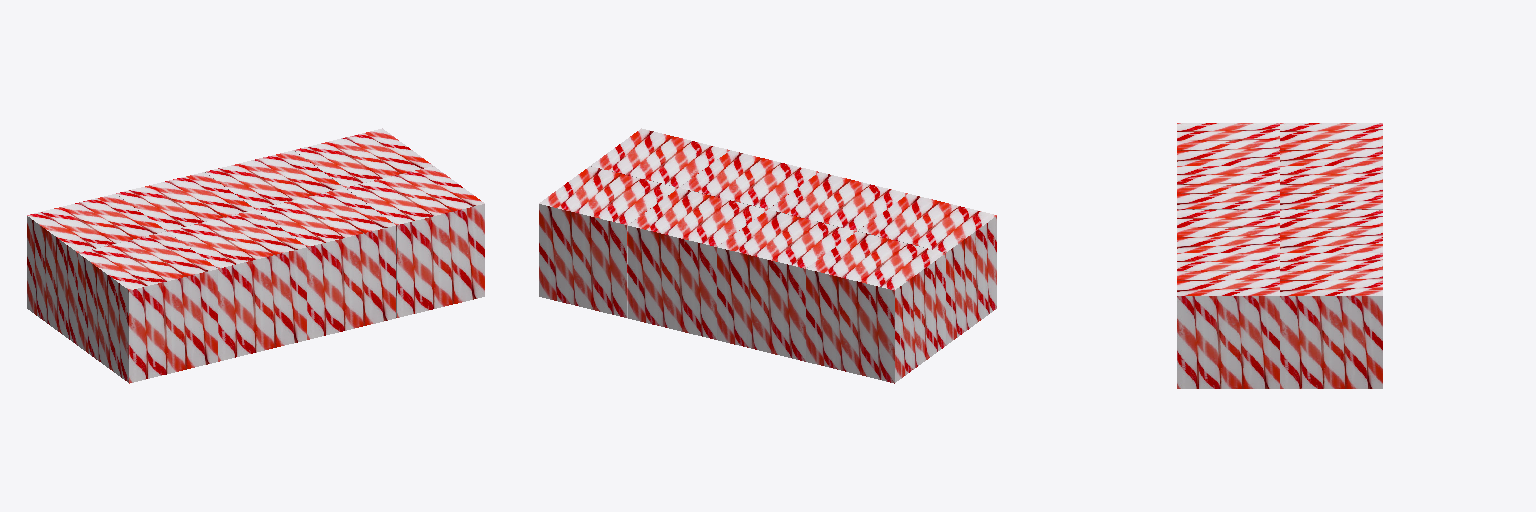
The picture shows the model from 3 angles: view 1: azimuth 30°, elevation 25°; view 2: azimuth 150°, elevation 25°; view 3: azimuth 270°, elevation 25°; orthographic projection.
Visible parts, largest first — view 1: Cube, Cube.002, Cube.003, Cube.001, Cube.007, Cube.004, Cube.005, Cube.006; view 2: Cube.007, Cube.005, Cube.004, Cube.006, Cube, Cube.003, Cube.002, Cube.001; view 3: Cube.004, Cube.003, Cube.006, Cube.001, Cube.007, Cube.005, Cube.002, Cube.
Boxes of the visible parts, x1,y1,x2,y2 form: Cube: [78, 231, 217, 383]; Cube.002: [256, 188, 395, 339]; Cube.003: [346, 166, 484, 317]; Cube.001: [167, 210, 306, 361]; Cube.007: [27, 194, 165, 345]; Cube.004: [294, 128, 432, 187]; Cube.005: [205, 150, 344, 208]; Cube.006: [116, 172, 255, 230]; Cube.007: [806, 231, 945, 383]; Cube.005: [628, 188, 767, 339]; Cube.004: [539, 166, 677, 317]; Cube.006: [717, 210, 856, 361]; Cube: [858, 194, 996, 345]; Cube.003: [591, 128, 729, 187]; Cube.002: [679, 150, 818, 208]; Cube.001: [768, 172, 907, 230]; Cube.004: [1280, 253, 1382, 388]; Cube.003: [1177, 253, 1279, 388]; Cube.006: [1280, 166, 1382, 209]; Cube.001: [1177, 166, 1279, 209]; Cube.007: [1280, 123, 1382, 165]; Cube.005: [1280, 210, 1382, 252]; Cube.002: [1177, 210, 1279, 252]; Cube: [1177, 123, 1279, 165].
Size of the model in its own units: 8.01 by 2 by 4.01.
Materials: 1 (1 with a texture image).